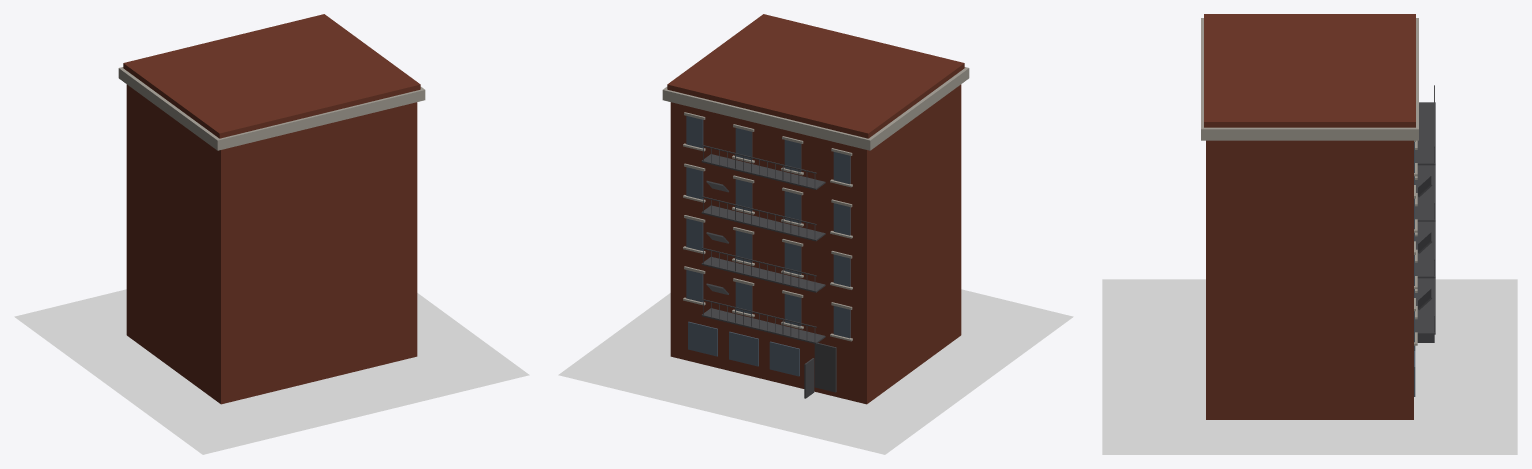
Rendered from tenement.glb.
The picture shows the model from 3 angles, left to right: view 1: azimuth 30°, elevation 25°; view 2: azimuth 150°, elevation 25°; view 3: azimuth 270°, elevation 25°; orthographic projection. The views are drawn at different scales.
Parts seen in each view (by area): view 1: Cube, Plane, Cube.002, Cube.001; view 2: Cube, Plane, Cube.002, Cube.001, Cube.061, Cube.055, Cube.064, Cube.058, Cube.003, Cube.004, Cube.005, Cube.006 (+11 smaller); view 3: Cube, Plane, Cube.002, Cube.001, Cube.064, Cube.058, Cube.055, Cube.061.
Part boxes in pixels (bbox=[...]): Cube: bbox=[126, 84, 417, 404]; Plane: bbox=[14, 289, 529, 454]; Cube.002: bbox=[123, 14, 420, 138]; Cube.001: bbox=[118, 67, 425, 150]; Cube: bbox=[670, 84, 961, 404]; Plane: bbox=[558, 289, 1073, 454]; Cube.002: bbox=[667, 14, 964, 138]; Cube.001: bbox=[662, 67, 969, 150]; Cube.061: bbox=[701, 205, 825, 241]; Cube.055: bbox=[701, 308, 825, 343]; Cube.064: bbox=[701, 154, 825, 189]; Cube.058: bbox=[701, 257, 825, 292]; Cube.003: bbox=[814, 343, 836, 392]; Cube.004: bbox=[769, 341, 799, 376]; Cube.005: bbox=[729, 331, 758, 366]; Cube.006: bbox=[688, 321, 717, 356]; Cube: bbox=[1206, 140, 1413, 419]; Plane: bbox=[1102, 279, 1517, 454]; Cube.002: bbox=[1204, 14, 1415, 127]; Cube.001: bbox=[1201, 18, 1418, 140]; Cube.064: bbox=[1415, 102, 1435, 165]; Cube.058: bbox=[1415, 221, 1435, 278]; Cube.055: bbox=[1415, 278, 1435, 334]; Cube.061: bbox=[1415, 165, 1435, 221].
Bounding box in the file's own units: 20 × 15.9 × 20.
